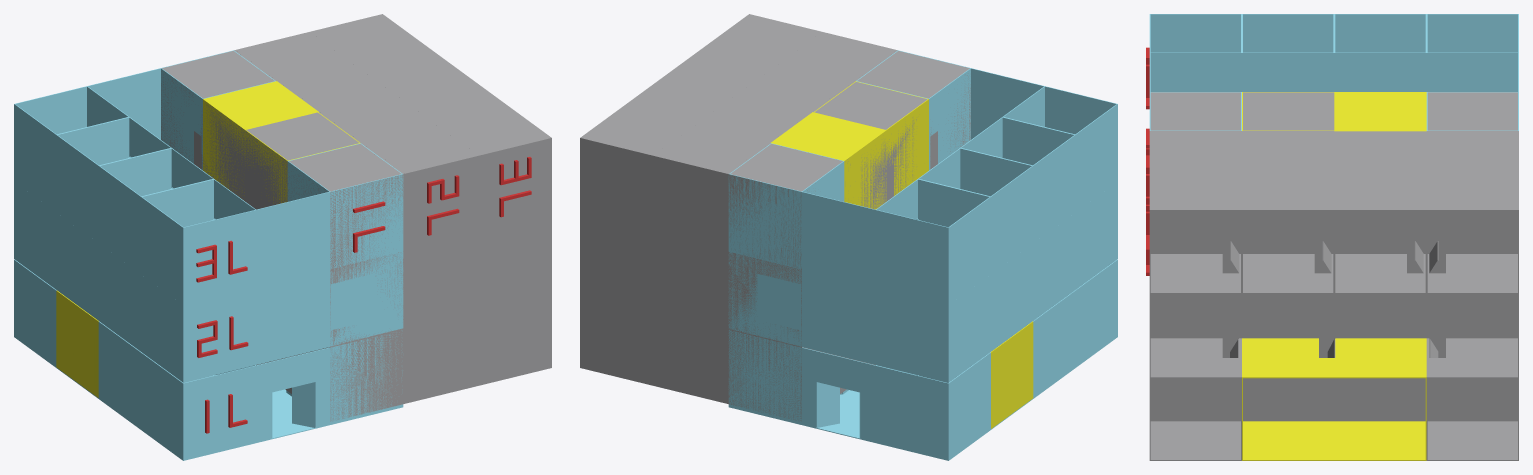
File: 第十五组.glb
3 views of the same model, side by side, from view 1: azimuth 30°, elevation 25°; view 2: azimuth 150°, elevation 25°; view 3: azimuth 270°, elevation 25° (orthographic). The views are drawn at different scales.
Size of the model in its own units: 0.0251 by 0.0152 by 0.0202.
